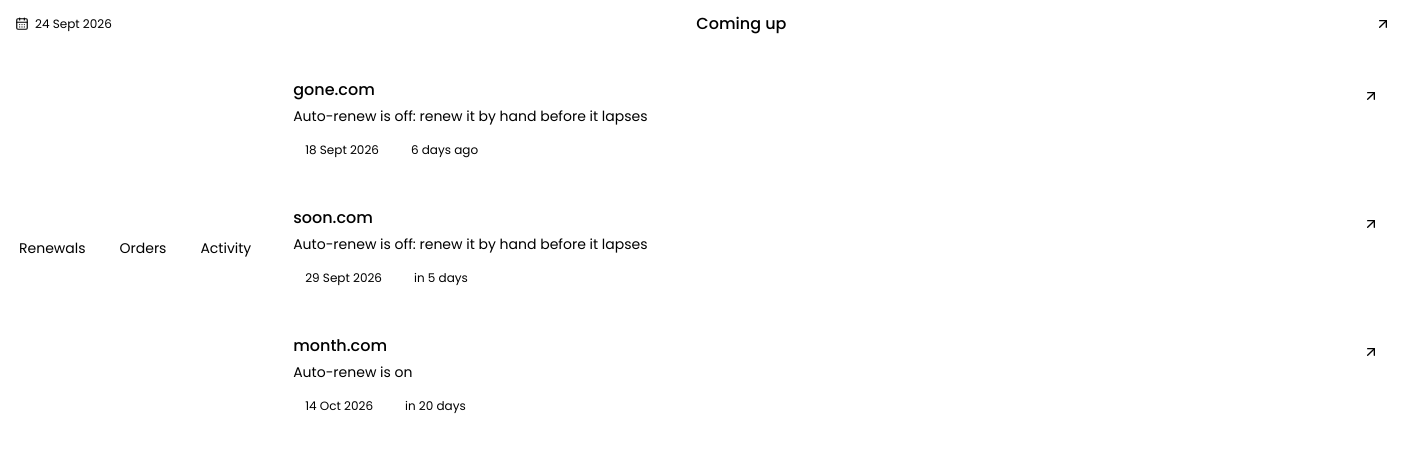
ComingUp › shows the three latest orders, with status, total and date
Click the tab "Orders" at [143, 248], box [106, 230, 180, 266]
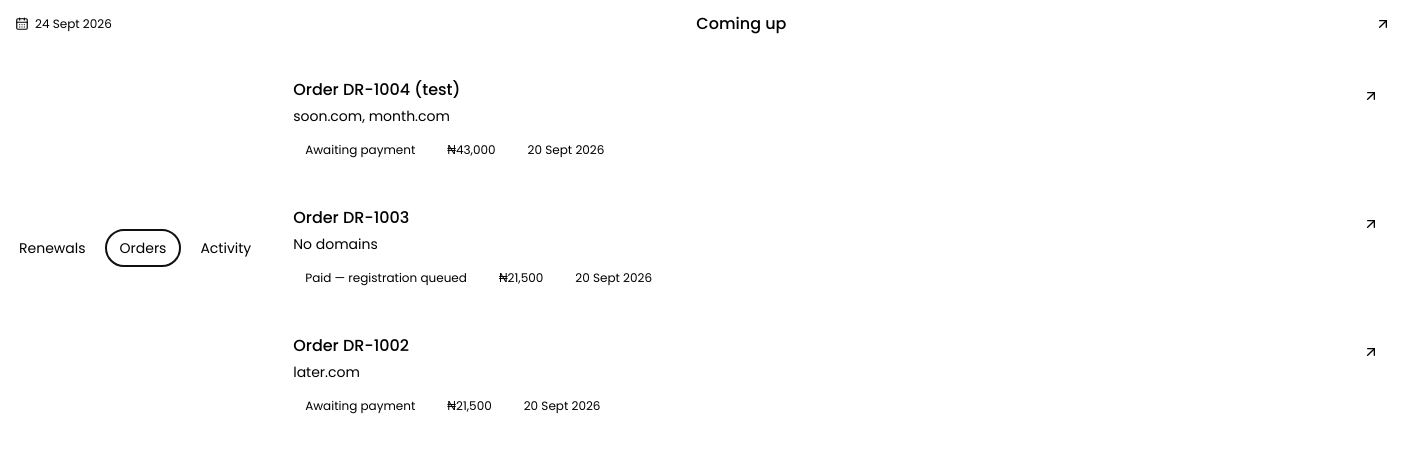
Expected: the list item that starts with "Order DR-1004 (test)" is shown, [293, 78, 460, 101]
Expected: the list item that starts with "Order DR-1004 (test)" shows "soon.com, month.com", [293, 106, 450, 126]
Expected: the list item that starts with "Order DR-1004 (test)" shows "Awaiting payment", [305, 141, 415, 158]
